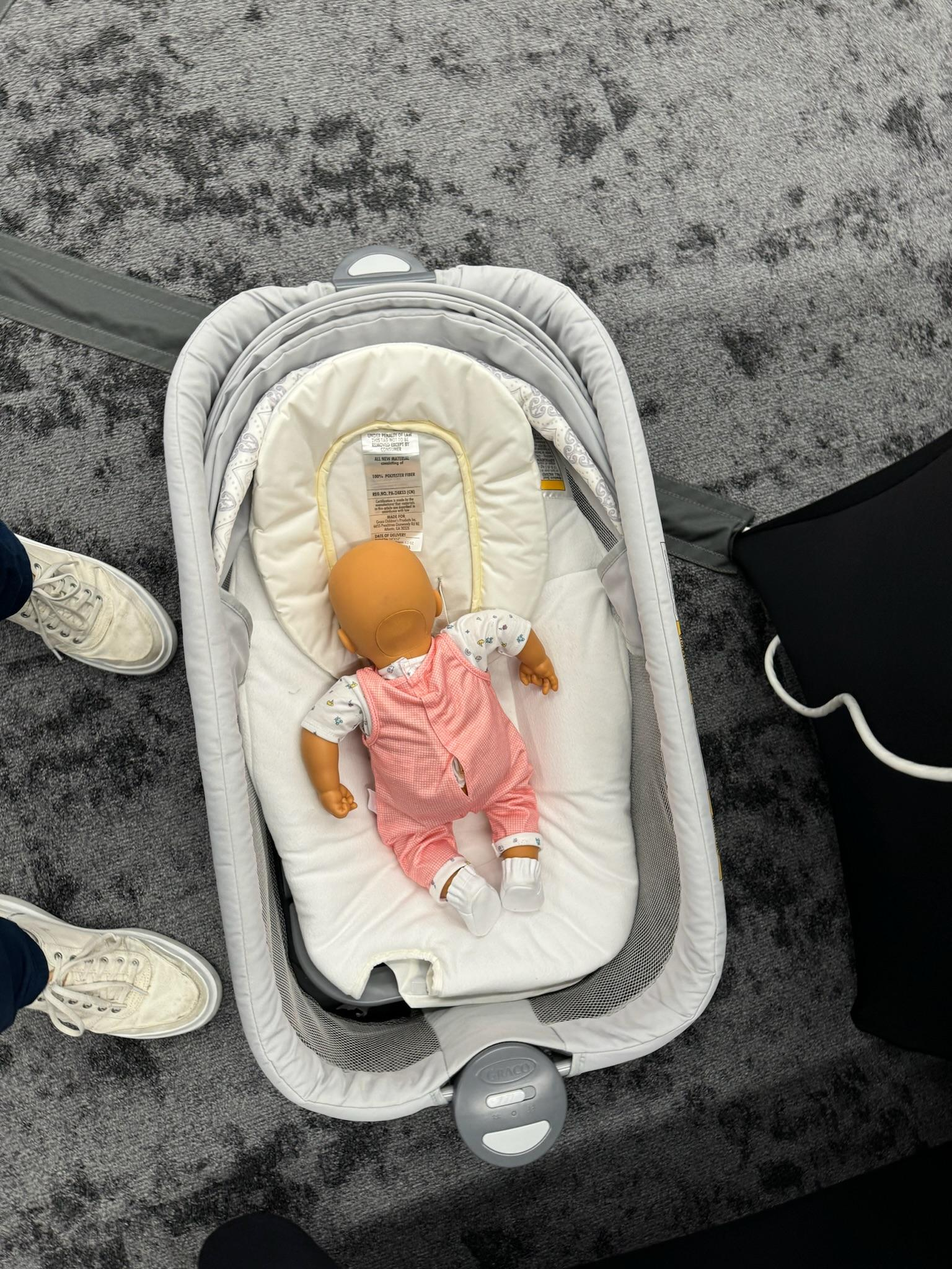baby: (299, 532, 569, 928)
